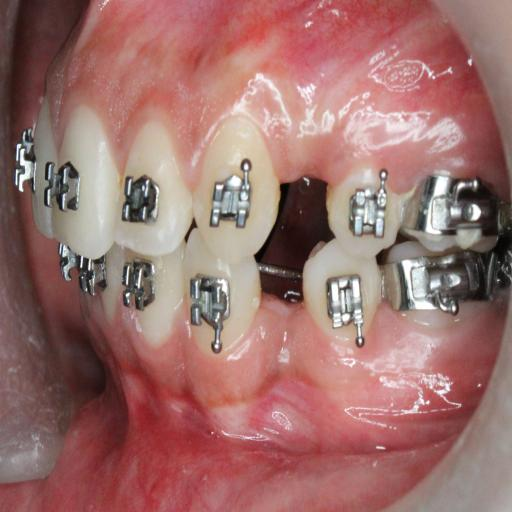correct_brace: (205, 153, 257, 236), (119, 164, 166, 231)
incorrect_brace: (115, 114, 195, 258)
